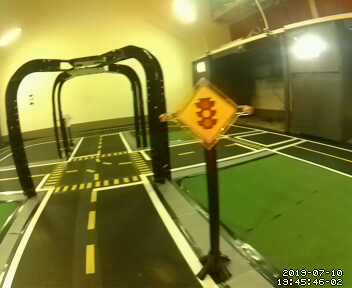Traffic light sign: (176, 84, 237, 143)
